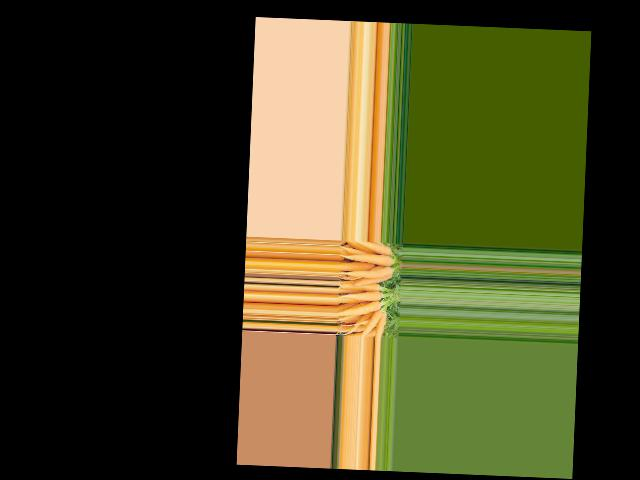carrot: (340, 250, 392, 267)
